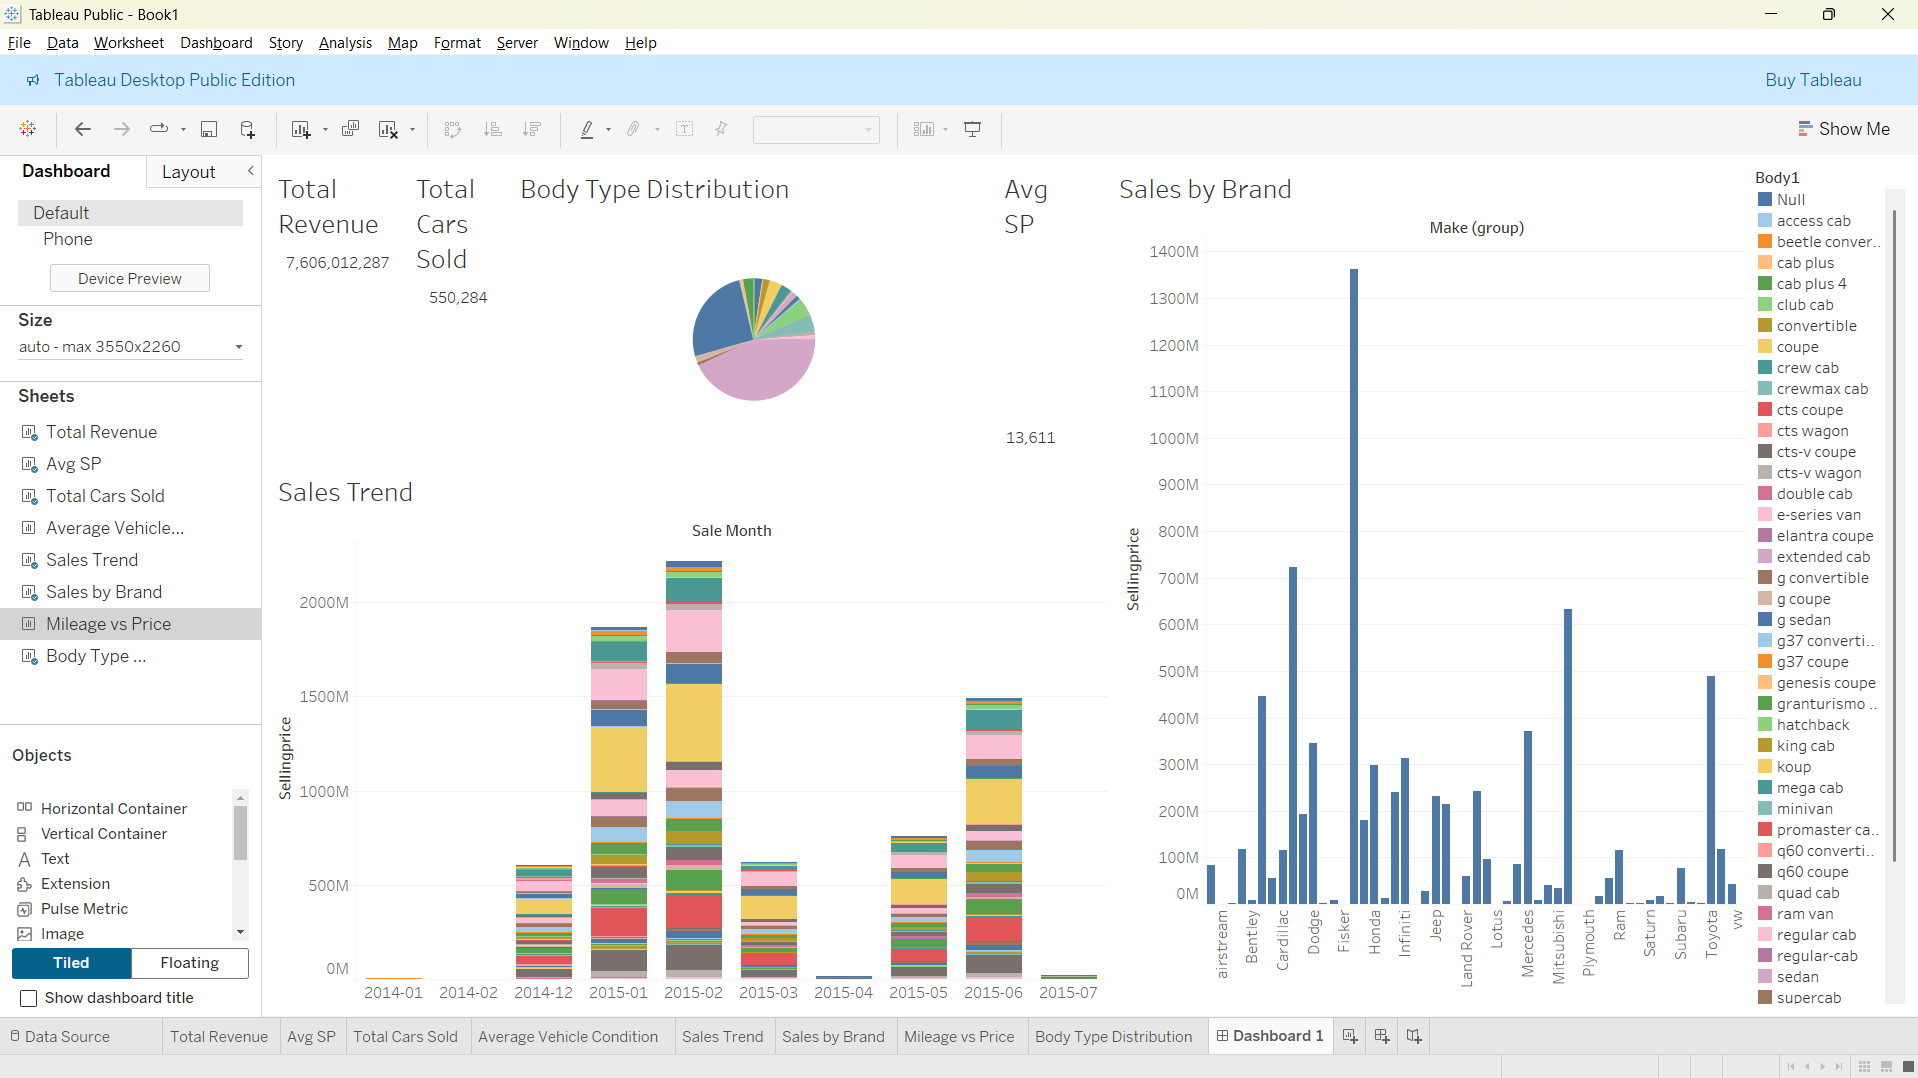

What the dashboard file says about the page in this screenshot:
{"tool":"tableau","page":{"name":"Dashboard 1","canvas":[1000,1000],"units":"permille","ordinal":0},"visuals":[{"type":"worksheet","title":"Total Revenue","mark":"Automatic","box":[4.8,9.3,83.3,351.9]},{"type":"worksheet","title":"Total Cars Sold","mark":"Automatic","box":[88.1,9.3,62.8,351.9]},{"type":"worksheet","title":"Body Type Distribution","mark":"Pie","box":[150.9,9.3,292.1,351.9]},{"type":"worksheet","title":"Avg SP","mark":"Automatic","box":[443,9.3,69.4,351.9]},{"type":"worksheet","title":"Sales by Brand","mark":"Automatic","rows":["sellingprice"],"box":[512.4,9.3,386.2,981.4]},{"type":"legend","title":"Body Type Distribution","param":"[federated.1djvx5u1fpdv6l1boga8g1gj9l1z].[none:Calculation_1356990883857862663:n","box":[898.6,9.3,96.6,981.4]},{"type":"worksheet","title":"Sales Trend","mark":"Automatic","rows":["sellingprice"],"cols":["sale_month"],"box":[4.8,361.2,507.5,629.5]}]}

Visuals, with their boxes on the dashboard's canvas, which has no fixed pixel size, in thousandths of its width and height (x1, y1, x2, y2). These are canvas units, not pixel positions in the 1918x1078 screenshot, which may show the page scaled, cropped or inside an application window:
"Total Revenue" worksheet: 5,9,88,361
"Total Cars Sold" worksheet: 88,9,151,361
"Body Type Distribution" worksheet (Pie marks): 151,9,443,361
"Avg SP" worksheet: 443,9,512,361
"Sales by Brand" worksheet: 512,9,899,991
"Body Type Distribution" legend: 899,9,995,991
"Sales Trend" worksheet: 5,361,512,991
